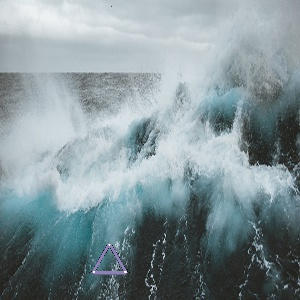triangle: (89, 242, 130, 277)
